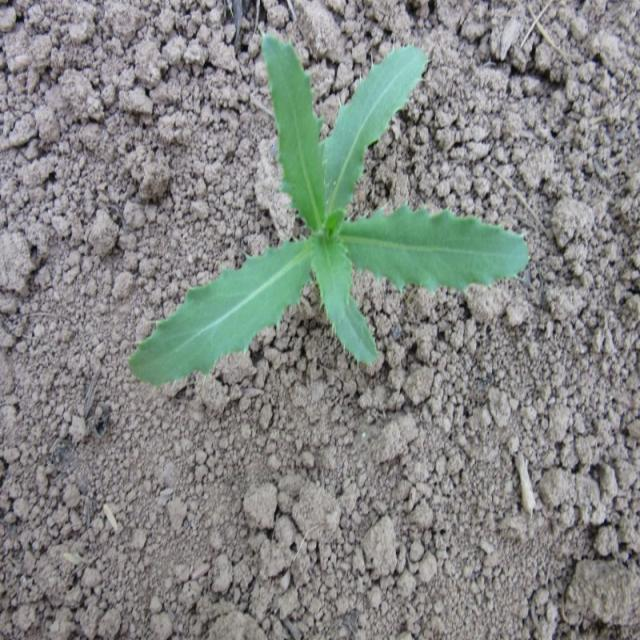field_thistle: (66, 41, 532, 416)
